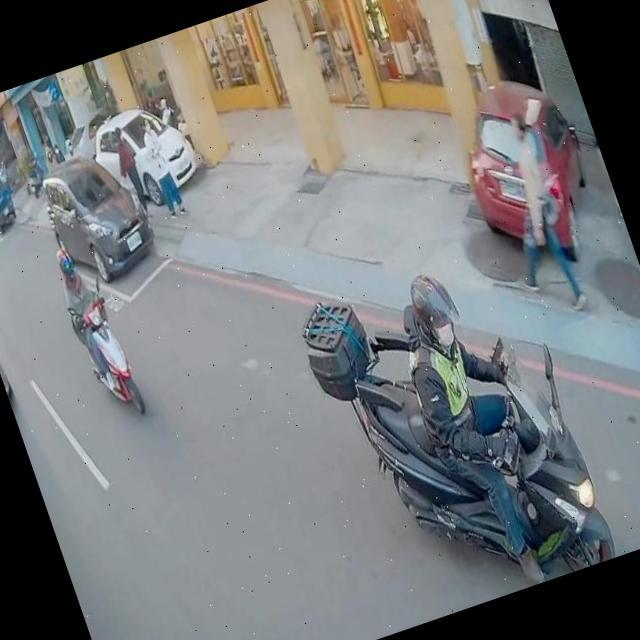person: (374, 247, 588, 598), (470, 100, 606, 320), (46, 237, 138, 403), (132, 109, 190, 223), (104, 120, 156, 219), (39, 140, 61, 176), (60, 130, 81, 161), (48, 138, 67, 166)
